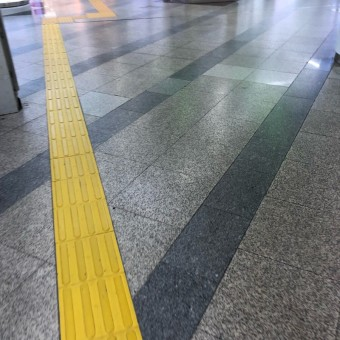guideBlock: (60, 277, 131, 326), (57, 210, 118, 255), (59, 243, 124, 283), (53, 179, 117, 218), (49, 162, 100, 192), (47, 99, 88, 127), (52, 140, 93, 166), (52, 120, 91, 146)
